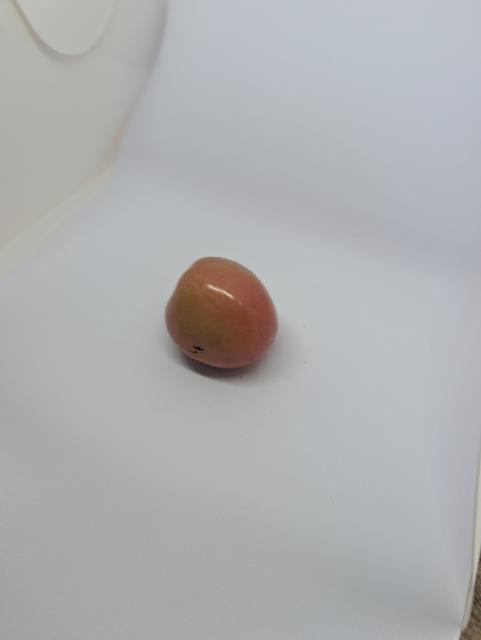turning: (152, 250, 286, 382)
